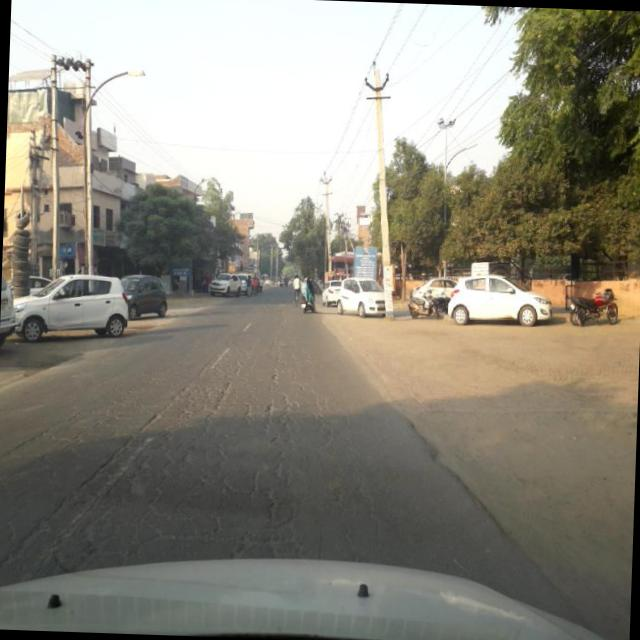crack: (7, 341, 323, 569)
